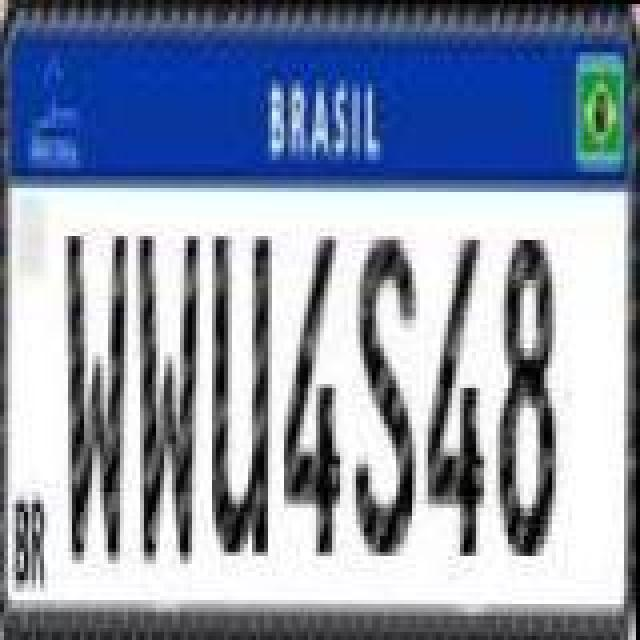4: (278, 226, 342, 562), (422, 222, 486, 558)
8: (494, 228, 558, 564)
S: (354, 222, 418, 558)
U: (210, 226, 274, 562)
W: (132, 232, 200, 568), (62, 228, 126, 572)
